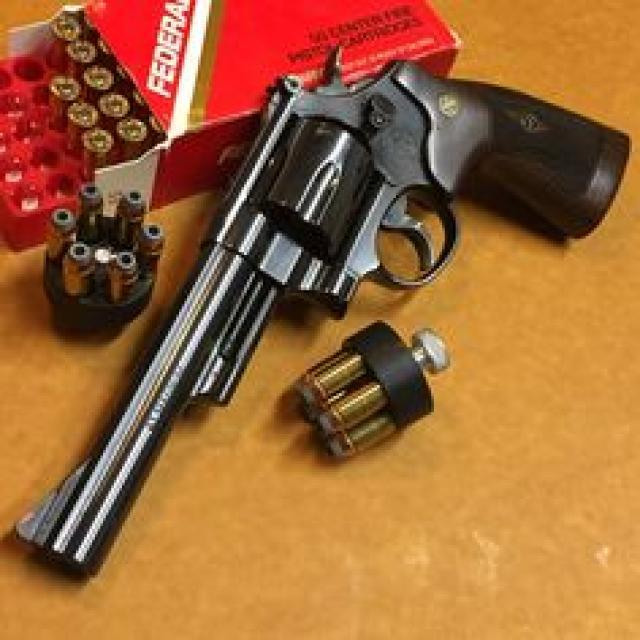revolver: (0, 1, 640, 626)
